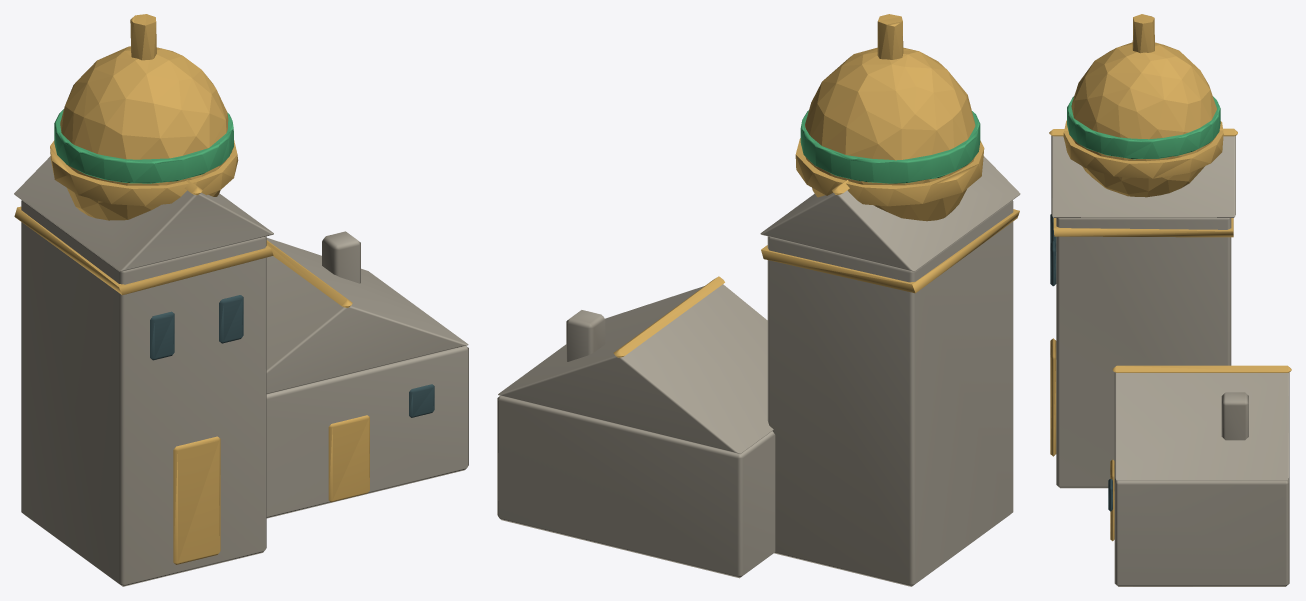
File: default_capital_academy.glb
3 renders of one model, left to right at view 1: azimuth 30°, elevation 25°; view 2: azimuth 150°, elevation 25°; view 3: azimuth 270°, elevation 25°, orthographic. The views are drawn at different scales.
Parts seen in each view (by area): view 1: WoodBody, BrassTrim, FixedDetails; view 2: WoodBody, BrassTrim, FixedDetails; view 3: WoodBody, BrassTrim, FixedDetails.
Part boxes in pixels (box(x1,y1,x2,y2)): WoodBody: box(14, 156, 468, 586); BrassTrim: box(14, 14, 369, 564); FixedDetails: box(54, 109, 434, 417); WoodBody: box(497, 156, 1020, 586); BrassTrim: box(613, 14, 1019, 357); FixedDetails: box(800, 110, 980, 183); WoodBody: box(1051, 135, 1289, 586); BrassTrim: box(1049, 14, 1291, 541); FixedDetails: box(1050, 96, 1220, 511).
Bounding box in the file's own units: 0.3973 × 0.4996 × 0.249.
